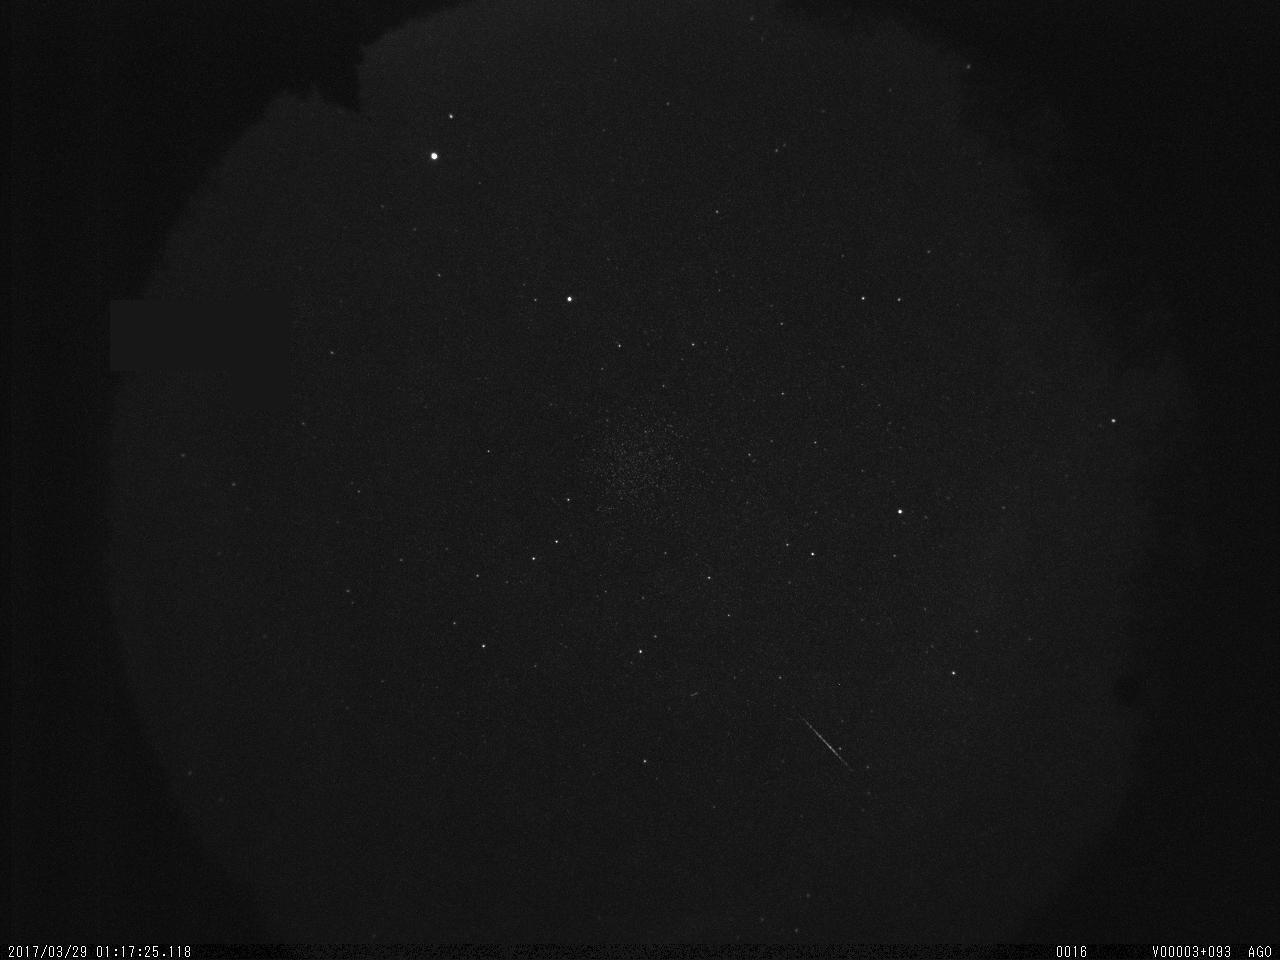meteor: (790, 700, 863, 781)
